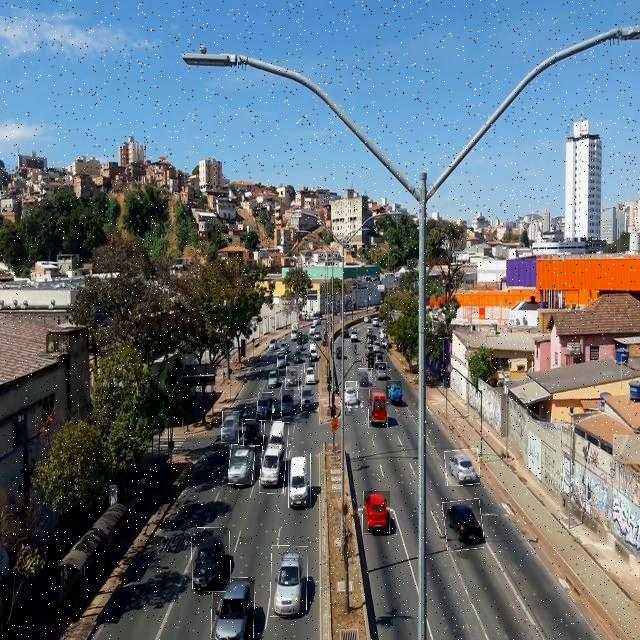Car: (212, 577, 255, 640), (191, 528, 231, 592), (271, 546, 307, 617), (444, 499, 483, 550), (445, 449, 480, 486), (363, 492, 390, 536), (229, 445, 255, 484), (222, 411, 239, 443), (243, 420, 262, 446), (258, 393, 274, 421), (386, 382, 402, 406), (281, 388, 294, 416), (345, 381, 358, 408), (301, 385, 314, 411), (286, 366, 299, 390), (358, 368, 372, 389), (267, 369, 279, 389), (375, 362, 387, 381), (305, 363, 316, 383), (278, 352, 286, 369)
Truck: (261, 422, 287, 494), (289, 451, 311, 509), (369, 388, 388, 428)
